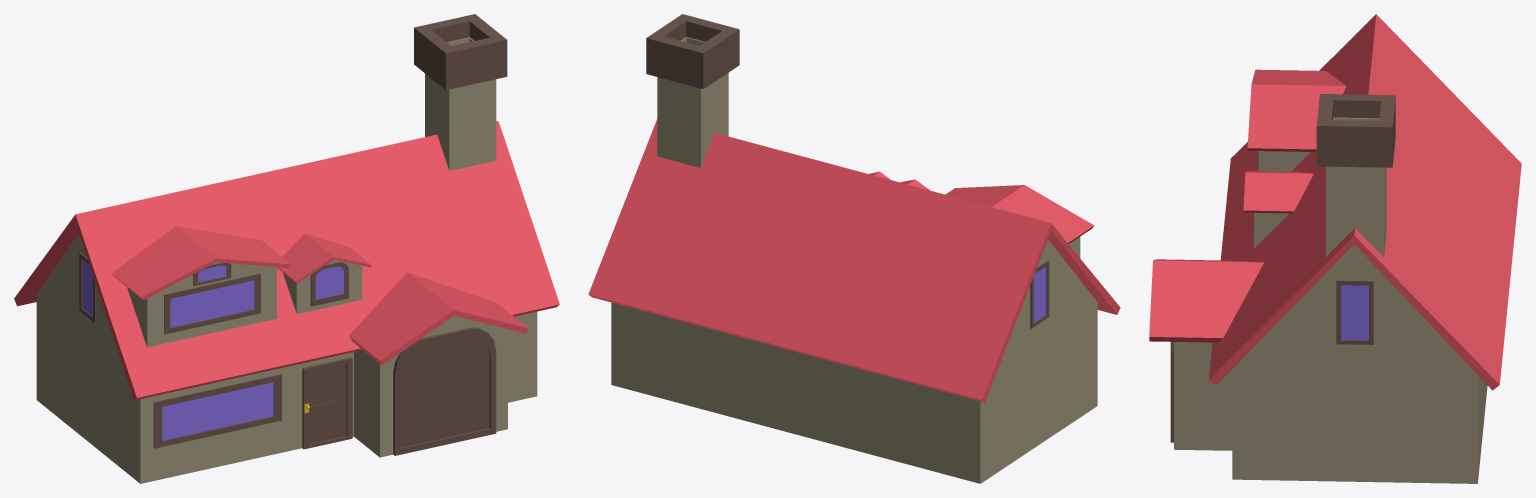
File: CALLE5_CASA1_013.fbx
The picture shows the model from 3 angles, left to right: view 1: azimuth 30°, elevation 25°; view 2: azimuth 150°, elevation 25°; view 3: azimuth 270°, elevation 25°; orthographic projection. The views are drawn at different scales.
Visible parts, largest first — view 1: CASA1.013; view 2: CASA1.013; view 3: CASA1.013.
Part boxes in pixels (bbox=[...]): CASA1.013: bbox=[14, 14, 559, 483]; CASA1.013: bbox=[588, 14, 1120, 483]; CASA1.013: bbox=[1149, 14, 1521, 483].
Bounding box in the file's own units: 995 × 734 × 692.
